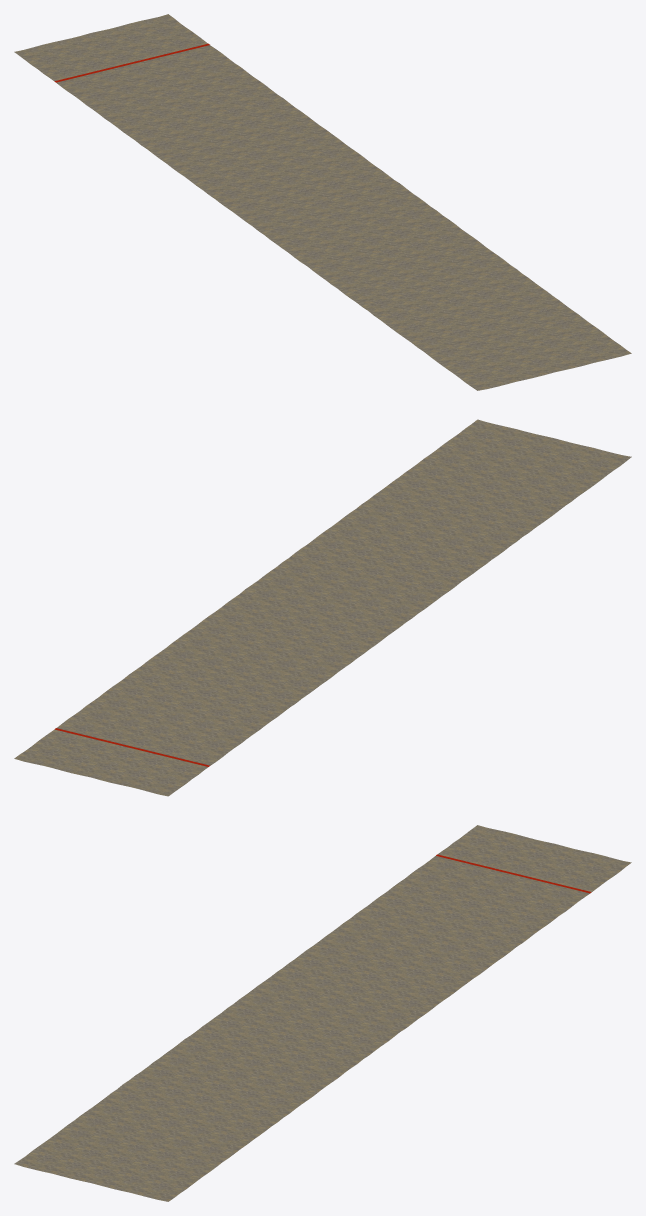
The model's file is Floor2.obj.
3 views of the same model, one above another, from view 1: azimuth 30°, elevation 25°; view 2: azimuth 150°, elevation 25°; view 3: azimuth 330°, elevation 25° (orthographic).
Parts seen in each view (by area): view 1: Floor; view 2: Floor; view 3: Floor.
Boxes of the visible parts, bbox=[...] form: Floor: bbox=[14, 14, 631, 390]; Floor: bbox=[14, 419, 631, 796]; Floor: bbox=[14, 825, 631, 1201].
Bounding box in the file's own units: 19.64 × 0.0867 × 102.
2 materials, 2 textured.
